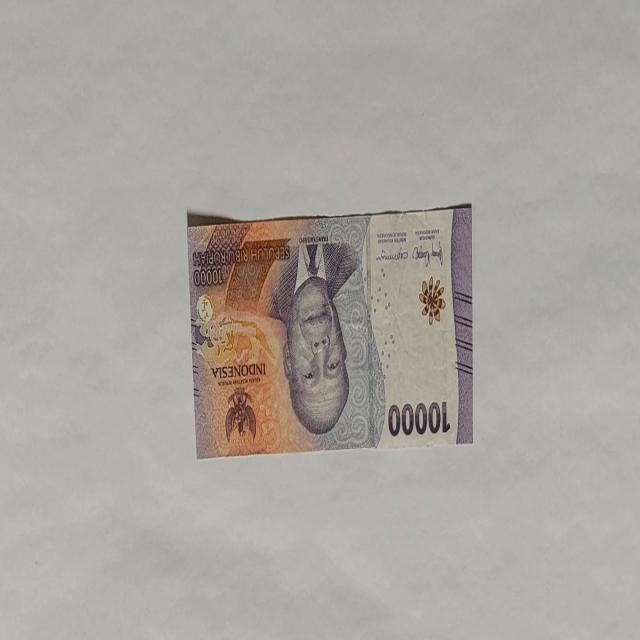sepuluh ribu rupiah: (186, 202, 474, 458), (268, 236, 362, 438)
